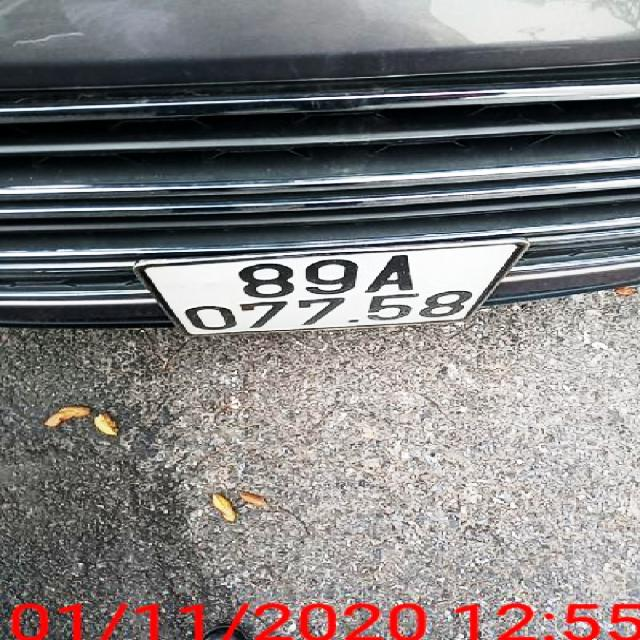license_plate: (135, 241, 530, 340)
